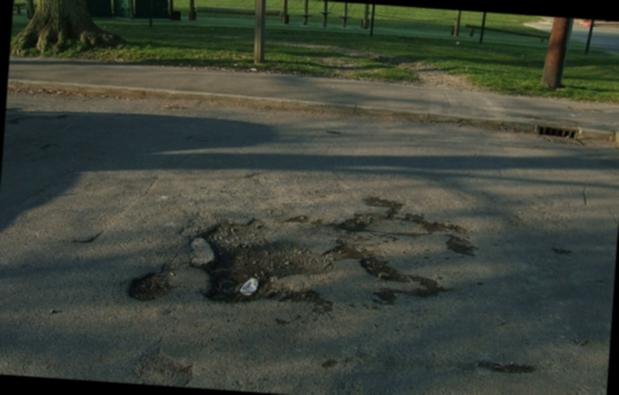pothole: (98, 161, 506, 376)
